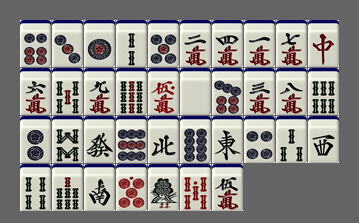0m: (148, 68, 179, 115)
0p: (116, 164, 147, 211)
0s: (180, 164, 211, 211)
1m: (244, 20, 275, 67)
1p: (84, 20, 115, 67)
1s: (148, 164, 179, 211)
1z: (212, 116, 243, 163)
2m: (180, 20, 211, 67)
2p: (20, 116, 51, 163)
2s: (116, 20, 147, 67)
2z: (84, 164, 115, 211)
3m: (244, 68, 275, 115)
3p: (52, 20, 83, 67)
3s: (276, 116, 307, 163)
3z: (308, 116, 339, 163)
4m: (212, 20, 243, 67)
4p: (244, 116, 275, 163)
4s: (20, 164, 51, 211)
4z: (148, 116, 179, 163)
5m: (212, 164, 243, 211)
5p: (148, 20, 179, 67)
5s: (52, 68, 83, 115)
5z: (180, 68, 211, 115)
6m: (20, 68, 51, 115)
6p: (20, 20, 51, 67)
6s: (308, 68, 339, 115)
6z: (84, 116, 115, 163)
7m: (276, 20, 307, 67)
7p: (212, 68, 243, 115)
7s: (52, 164, 83, 211)
7z: (308, 20, 339, 67)
8m: (276, 68, 307, 115)
8p: (180, 116, 211, 163)
8s: (52, 116, 83, 163)
9m: (84, 68, 115, 115)
9p: (116, 116, 147, 163)
9s: (116, 68, 147, 115)
